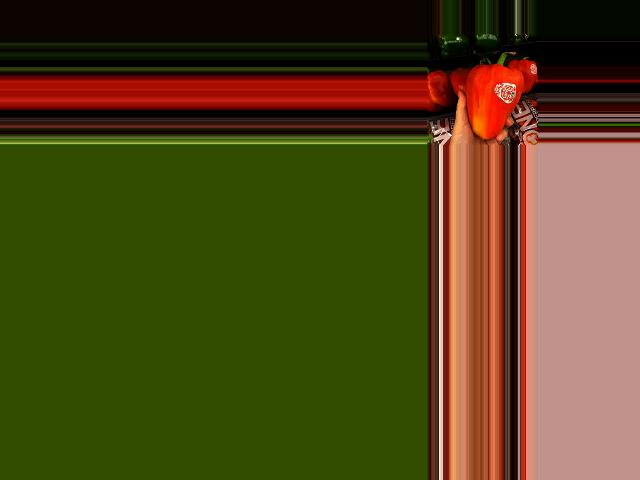bell_pepper: (459, 50, 525, 138)
